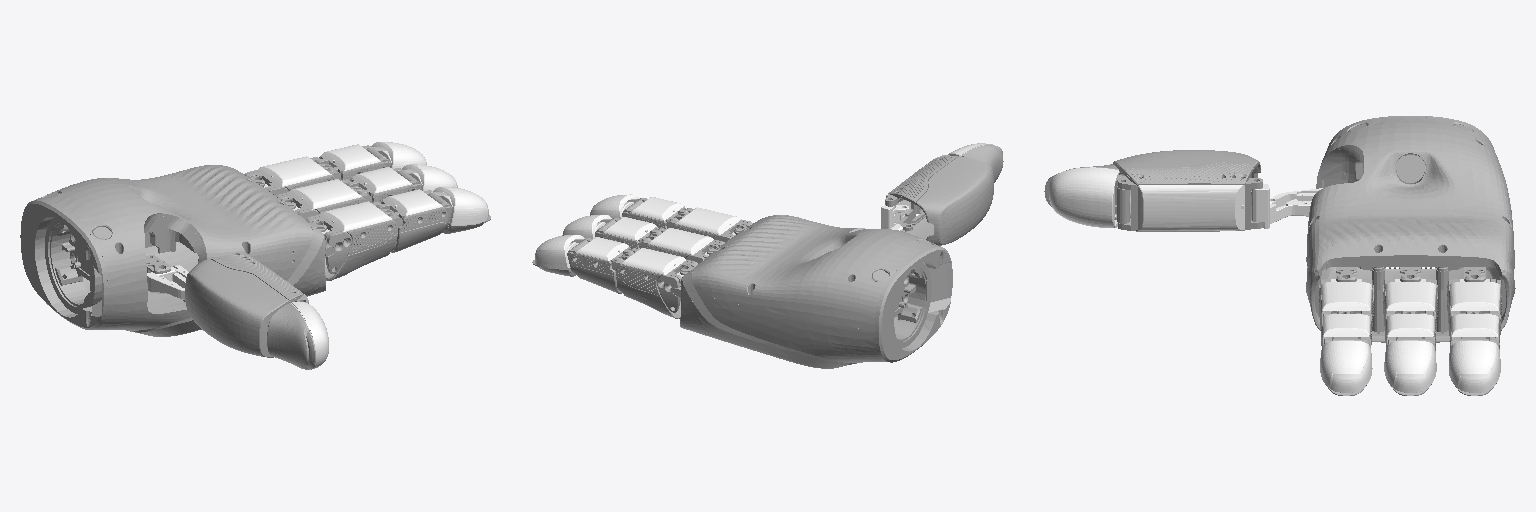
--- Facts derived from the render (not from the file) ---
Views: 3 orthographic renders of the robot side by side, from view 1: azimuth 30°, elevation 25°; view 2: azimuth 150°, elevation 25°; view 3: azimuth 270°, elevation 25°.
Model dexh13_right with 28 links and 27 joints (16 revolute, 11 fixed), rooted at right_palm_link, posed all joints at 0.
Links seen in each view (by area): view 1: right_palm_link, right_thumb_link_2, right_index_link_1, right_thumb_link_3, right_index_link_2, right_index_tactile_link_2, right_middle_tactile_link_0, right_index_tactile_link_0, right_ring_tactile_link_0, right_thumb_tactile_link_1, right_middle_tactile_link_1, right_ring_tactile_link_1 (+6 smaller); view 2: right_palm_link, right_thumb_link_2, right_ring_link_1, right_ring_link_2, right_ring_tactile_link_2, right_index_tactile_link_0, right_middle_tactile_link_0, right_ring_tactile_link_0, right_index_tactile_link_1, right_ring_tactile_link_1, right_middle_tactile_link_1, right_index_tactile_link_2 (+4 smaller); view 3: right_palm_link, right_thumb_link_2, right_thumb_tactile_link_0, right_thumb_tactile_link_1, right_middle_tactile_link_2, right_index_tactile_link_2, right_ring_tactile_link_2, right_thumb_link_1, right_middle_tactile_link_0, right_index_tactile_link_0, right_ring_tactile_link_0, right_ring_tactile_link_1 (+3 smaller).
Link boxes in pixels (x1=…): right_palm_link: x1=20, y1=165, x2=326, y2=336; right_thumb_link_2: x1=185, y1=252, x2=308, y2=357; right_index_link_1: x1=306, y1=202, x2=402, y2=280; right_thumb_link_3: x1=267, y1=303, x2=315, y2=369; right_index_link_2: x1=377, y1=190, x2=452, y2=252; right_index_tactile_link_2: x1=433, y1=187, x2=488, y2=224; right_middle_tactile_link_0: x1=288, y1=179, x2=361, y2=211; right_index_tactile_link_0: x1=319, y1=201, x2=392, y2=233; right_ring_tactile_link_0: x1=258, y1=156, x2=331, y2=188; right_thumb_tactile_link_1: x1=291, y1=302, x2=328, y2=369; right_middle_tactile_link_1: x1=353, y1=167, x2=412, y2=193; right_ring_tactile_link_1: x1=322, y1=144, x2=380, y2=170; right_palm_link: x1=680, y1=215, x2=952, y2=368; right_thumb_link_2: x1=885, y1=155, x2=993, y2=245; right_ring_link_1: x1=612, y1=248, x2=697, y2=318; right_ring_link_2: x1=567, y1=238, x2=633, y2=293; right_ring_tactile_link_2: x1=535, y1=235, x2=584, y2=268; right_index_tactile_link_0: x1=676, y1=207, x2=741, y2=236; right_middle_tactile_link_0: x1=648, y1=228, x2=713, y2=255; right_ring_tactile_link_0: x1=621, y1=248, x2=685, y2=274; right_index_tactile_link_1: x1=631, y1=197, x2=683, y2=220; right_ring_tactile_link_1: x1=576, y1=237, x2=628, y2=260; right_middle_tactile_link_1: x1=603, y1=217, x2=656, y2=240; right_index_tactile_link_2: x1=590, y1=194, x2=639, y2=218; right_palm_link: x1=1306, y1=116, x2=1515, y2=342; right_thumb_link_2: x1=1113, y1=150, x2=1262, y2=231; right_thumb_tactile_link_0: x1=1138, y1=185, x2=1244, y2=230; right_thumb_tactile_link_1: x1=1049, y1=167, x2=1119, y2=227; right_middle_tactile_link_2: x1=1384, y1=340, x2=1436, y2=392; right_index_tactile_link_2: x1=1320, y1=340, x2=1372, y2=392; right_ring_tactile_link_2: x1=1449, y1=340, x2=1500, y2=392; right_thumb_link_1: x1=1251, y1=184, x2=1322, y2=228; right_middle_tactile_link_0: x1=1385, y1=282, x2=1435, y2=310; right_index_tactile_link_0: x1=1321, y1=282, x2=1371, y2=310; right_ring_tactile_link_0: x1=1449, y1=282, x2=1499, y2=310; right_ring_tactile_link_1: x1=1451, y1=314, x2=1498, y2=338.
Size in the robot's own frame: 0.2351 by 0.231 by 0.0734 metres.
Meshes: 28 distinct files referenced, 28 mesh visuals loaded (28 binary STL).

The robot description file, URDF, robot "dexh13_right":
<?xml version="1.0" encoding="utf-8"?>
<!-- This URDF was automatically created by SolidWorks to URDF Exporter! Originally created by Stephen Brawner ([email redacted]) 
     Commit Version: 1.6.0-4-g7f85cfe  Build Version: 1.6.7995.38578
     For more information, please see http://wiki.ros.org/sw_urdf_exporter -->
<robot
  name="dexh13_right">
  <link
    name="right_palm_link">
    <inertial>
      <origin
        xyz="0.0619400889798107 0.000633777554448545 -0.00922401737694556"
        rpy="0 0 0" />
      <mass
        value="0.114799444276486" />
      <inertia
        ixx="0.000115656477451761"
        ixy="3.24423761159877E-06"
        ixz="4.40448289255065E-06"
        iyy="0.000144675400179227"
        iyz="-1.26436937122323E-06"
        izz="0.000233485399410628" />
    </inertial>
    <visual>
      <origin
        xyz="0 0 0"
        rpy="0 0 0" />
      <geometry>
        <mesh
          filename="../meshes/right_palm_link.STL" />
      </geometry>
      <material
        name="">
        <color
          rgba="0.752941176470588 0.752941176470588 0.752941176470588 1" />
      </material>
    </visual>
    <collision>
      <origin
        xyz="0 0 0"
        rpy="0 0 0" />
      <geometry>
        <mesh
          filename="../meshes/right_palm_link.STL" />
      </geometry>
    </collision>
  </link>
  <link
    name="right_index_link_0">
    <inertial>
      <origin
        xyz="-0.000308197926172649 8.39026403909315E-10 -8.96268664007938E-07"
        rpy="0 0 0" />
      <mass
        value="0.000177081875037463" />
      <inertia
        ixx="3.4763707795701E-09"
        ixy="1.07698689339673E-16"
        ixz="-4.6319757296773E-13"
        iyy="6.72350326843279E-10"
        iyz="-4.88407181627268E-17"
        izz="3.89708717262623E-09" />
    </inertial>
    <visual>
      <origin
        xyz="0 0 0"
        rpy="0 0 0" />
      <geometry>
        <mesh
          filename="../meshes/right_index_link_0.STL" />
      </geometry>
      <material
        name="">
        <color
          rgba="1 1 1 1" />
      </material>
    </visual>
    <collision>
      <origin
        xyz="0 0 0"
        rpy="0 0 0" />
      <geometry>
        <mesh
          filename="../meshes/right_index_link_0.STL" />
      </geometry>
    </collision>
  </link>
  <joint
    name="right_index_joint_0"
    type="revolute">
    <origin
      xyz="0.13528 -0.0315 0.0017501"
      rpy="3.1416 0 3.1416" />
    <parent
      link="right_palm_link" />
    <child
      link="right_index_link_0" />
    <axis
      xyz="0 0 1" />
    <limit
      lower="-0.35"
      upper="0.35"
      effort="0"
      velocity="0" />
  </joint>
  <link
    name="right_index_link_1">
    <inertial>
      <origin
        xyz="0.019458668769933 -0.0089652904132522 -0.000103629286555107"
        rpy="0 0 0" />
      <mass
        value="0.00781862122127028" />
      <inertia
        ixx="7.54005717682309E-07"
        ixy="-1.78804290522348E-07"
        ixz="-3.16795998523565E-08"
        iyy="1.81037946922475E-06"
        iyz="-3.54790575910829E-09"
        izz="1.58839732926949E-06" />
    </inertial>
    <visual>
      <origin
        xyz="0 0 0"
        rpy="0 0 0" />
      <geometry>
        <mesh
          filename="../meshes/right_index_link_1.STL" />
      </geometry>
      <material
        name="">
        <color
          rgba="0.752941176470588 0.752941176470588 0.752941176470588 1" />
      </material>
    </visual>
    <collision>
      <origin
        xyz="0 0 0"
        rpy="0 0 0" />
      <geometry>
        <mesh
          filename="../meshes/right_index_link_1.STL" />
      </geometry>
    </collision>
  </link>
  <joint
    name="right_index_joint_1"
    type="revolute">
    <origin
      xyz="0 0 0"
      rpy="-1.5708 0 3.1416" />
    <parent
      link="right_index_link_0" />
    <child
      link="right_index_link_1" />
    <axis
      xyz="0 0 1" />
    <limit
      lower="0"
      upper="1.57"
      effort="0"
      velocity="0" />
  </joint>
  <link
    name="right_index_link_2">
    <inertial>
      <origin
        xyz="0.0137651413880091 -0.00728319097323554 -0.000338376807412472"
        rpy="0 0 0" />
      <mass
        value="0.00444702440302546" />
      <inertia
        ixx="3.57402969229919E-07"
        ixy="-2.93570876643459E-08"
        ixz="-7.17605723324856E-09"
        iyy="5.90573396738625E-07"
        iyz="-1.80789872592111E-09"
        izz="4.33465005909825E-07" />
    </inertial>
    <visual>
      <origin
        xyz="0 0 0"
        rpy="0 0 0" />
      <geometry>
        <mesh
          filename="../meshes/right_index_link_2.STL" />
      </geometry>
      <material
        name="">
        <color
          rgba="0.752941176470588 0.752941176470588 0.752941176470588 1" />
      </material>
    </visual>
    <collision>
      <origin
        xyz="0 0 0"
        rpy="0 0 0" />
      <geometry>
        <mesh
          filename="../meshes/right_index_link_2.STL" />
      </geometry>
    </collision>
  </link>
  <joint
    name="right_index_joint_2"
    type="revolute">
    <origin
      xyz="0.039999 1.0069E-05 0"
      rpy="0 0 0" />
    <parent
      link="right_index_link_1" />
    <child
      link="right_index_link_2" />
    <axis
      xyz="0 0 1" />
    <limit
      lower="0"
      upper="1.57"
      effort="0"
      velocity="0" />
  </joint>
  <link
    name="right_index_link_3">
    <inertial>
      <origin
        xyz="0.00645566880354587 -0.0108151464713902 3.11426869692433E-06"
        rpy="0 0 0" />
      <mass
        value="0.00370163834726037" />
      <inertia
        ixx="1.63153786893549E-07"
        ixy="6.2613785984167E-08"
        ixz="-2.8930751066186E-10"
        iyy="3.8481939975164E-07"
        iyz="8.54539635528873E-10"
        izz="3.08433547663749E-07" />
    </inertial>
    <visual>
      <origin
        xyz="0 0 0"
        rpy="0 0 0" />
      <geometry>
        <mesh
          filename="../meshes/right_index_link_3.STL" />
      </geometry>
      <material
        name="">
        <color
          rgba="0.752941176470588 0.752941176470588 0.752941176470588 1" />
      </material>
    </visual>
    <collision>
      <origin
        xyz="0 0 0"
        rpy="0 0 0" />
      <geometry>
        <mesh
          filename="../meshes/right_index_link_3.STL" />
      </geometry>
    </collision>
  </link>
  <joint
    name="right_index_joint_3"
    type="revolute">
    <origin
      xyz="0.030001 -1.0072E-05 0"
      rpy="0 0 0" />
    <parent
      link="right_index_link_2" />
    <child
      link="right_index_link_3" />
    <axis
      xyz="0 0 1" />
    <limit
      lower="0"
      upper="1.57"
      effort="0"
      velocity="0" />
  </joint>
  <link
    name="right_index_tactile_link_2">
    <inertial>
      <origin
        xyz="0.000109844961296346 0.0099416982219066 0.00443460180255373"
        rpy="0 0 0" />
      <mass
        value="0.00413497205037458" />
      <inertia
        ixx="2.22394583675105E-07"
        ixy="9.01967562427741E-10"
        ixz="8.94924483975294E-10"
        iyy="2.23755941796333E-07"
        iyz="2.47116794584231E-08"
        izz="3.54572754525545E-07" />
    </inertial>
    <visual>
      <origin
        xyz="0 0 0"
        rpy="0 0 0" />
      <geometry>
        <mesh
          filename="../meshes/right_index_tactile_link_2.STL" />
      </geometry>
      <material
        name="">
        <color
          rgba="1 1 1 1" />
      </material>
    </visual>
    <collision>
      <origin
        xyz="0 0 0"
        rpy="0 0 0" />
      <geometry>
        <mesh
          filename="../meshes/right_index_tactile_link_2.STL" />
      </geometry>
    </collision>
  </link>
  <joint
    name="right_index_tactile_joint_2"
    type="fixed">
    <origin
      xyz="0.0029533 -0.0067786 0"
      rpy="1.3775 -1.5708 3.1413" />
    <parent
      link="right_index_link_3" />
    <child
      link="right_index_tactile_link_2" />
    <axis
      xyz="0 0 0" />
  </joint>
  <link
    name="right_index_tactile_link_1">
    <inertial>
      <origin
        xyz="3.0446001686224E-05 0.0109528249877928 0.000700664923569766"
        rpy="0 0 0" />
      <mass
        value="0.00146306414297665" />
      <inertia
        ixx="5.85353582900128E-08"
        ixy="2.96653312598885E-11"
        ixz="-5.95294227147362E-13"
        iyy="6.03565233436984E-08"
        iyz="-1.48257364967186E-11"
        izz="1.15994427577965E-07" />
    </inertial>
    <visual>
      <origin
        xyz="0 0 0"
        rpy="0 0 0" />
      <geometry>
        <mesh
          filename="../meshes/right_index_tactile_link_1.STL" />
      </geometry>
      <material
        name="">
        <color
          rgba="1 1 1 1" />
      </material>
    </visual>
    <collision>
      <origin
        xyz="0 0 0"
        rpy="0 0 0" />
      <geometry>
        <mesh
          filename="../meshes/right_index_tactile_link_1.STL" />
      </geometry>
    </collision>
  </link>
  <joint
    name="right_index_tactile_joint_1"
    type="fixed">
    <origin
      xyz="0.0041708 0.0024988 0"
      rpy="1.5708 -1.5708 3.1413" />
    <parent
      link="right_index_link_2" />
    <child
      link="right_index_tactile_link_1" />
    <axis
      xyz="0 0 0" />
  </joint>
  <link
    name="right_index_tactile_link_0">
    <inertial>
      <origin
        xyz="-5.64660317428634E-06 0.014075020640723 0.00086164148054127"
        rpy="0 0 0" />
      <mass
        value="0.00202349083525809" />
      <inertia
        ixx="1.39860030184411E-07"
        ixy="1.33827478855186E-11"
        ixz="-1.25794008028026E-12"
        iyy="9.15846254269304E-08"
        iyz="-2.40330494074063E-10"
        izz="2.2769300433268E-07" />
    </inertial>
    <visual>
      <origin
        xyz="0 0 0"
        rpy="0 0 0" />
      <geometry>
        <mesh
          filename="../meshes/right_index_tactile_link_0.STL" />
      </geometry>
      <material
        name="">
        <color
          rgba="1 1 1 1" />
      </material>
    </visual>
    <collision>
      <origin
        xyz="0 0 0"
        rpy="0 0 0" />
      <geometry>
        <mesh
          filename="../meshes/right_index_tactile_link_0.STL" />
      </geometry>
    </collision>
  </link>
  <joint
    name="right_index_tactile_joint_0"
    type="fixed">
    <origin
      xyz="0.00726310654650064 0.00249999999992634 0"
      rpy="-1.06831157850435 -1.57079631189374 -0.502484829452999" />
    <parent
      link="right_index_link_1" />
    <child
      link="right_index_tactile_link_0" />
    <axis
      xyz="0 0 0" />
  </joint>
  <link
    name="right_middle_link_0">
    <inertial>
      <origin
        xyz="-0.000308197926172538 8.39026403909315E-10 -8.96268663952426E-07"
        rpy="0 0 0" />
      <mass
        value="0.000177081875037461" />
      <inertia
        ixx="3.47637077957008E-09"
        ixy="1.07698687177505E-16"
        ixz="-4.63197572968217E-13"
        iyy="6.72350326843274E-10"
        iyz="-4.88407181812721E-17"
        izz="3.8970871726262E-09" />
    </inertial>
    <visual>
      <origin
        xyz="0 0 0"
        rpy="0 0 0" />
      <geometry>
        <mesh
          filename="../meshes/right_middle_link_0.STL" />
      </geometry>
      <material
        name="">
        <color
          rgba="1 1 1 1" />
      </material>
    </visual>
    <collision>
      <origin
        xyz="0 0 0"
        rpy="0 0 0" />
      <geometry>
        <mesh
          filename="../meshes/right_middle_link_0.STL" />
      </geometry>
    </collision>
  </link>
  <joint
    name="right_middle_joint_0"
    type="revolute">
    <origin
      xyz="0.13528 0 0.0017501"
      rpy="3.1416 0 3.1416" />
    <parent
      link="right_palm_link" />
    <child
      link="right_middle_link_0" />
    <axis
      xyz="0 0 1" />
    <limit
      lower="-0.35"
      upper="0.35"
      effort="0"
      velocity="0" />
  </joint>
  <link
    name="right_middle_link_1">
    <inertial>
      <origin
        xyz="0.0194586697953215 -0.0089652904495495 -0.000103629595511856"
        rpy="0 0 0" />
      <mass
        value="0.0078186203560971" />
      <inertia
        ixx="7.54005690810802E-07"
        ixy="-1.78804386113988E-07"
        ixz="-3.16796063838823E-08"
        iyy="1.81038006347822E-06"
        iyz="-3.54791904709937E-09"
        izz="1.58839790889073E-06" />
    </inertial>
    <visual>
      <origin
        xyz="0 0 0"
        rpy="0 0 0" />
      <geometry>
        <mesh
          filename="../meshes/right_middle_link_1.STL" />
      </geometry>
      <material
        name="">
        <color
          rgba="0.752941176470588 0.752941176470588 0.752941176470588 1" />
      </material>
    </visual>
    <collision>
      <origin
        xyz="0 0 0"
        rpy="0 0 0" />
      <geometry>
        <mesh
          filename="../meshes/right_middle_link_1.STL" />
      </geometry>
    </collision>
  </link>
  <joint
    name="right_middle_joint_1"
    type="revolute">
    <origin
      xyz="0 0 0"
      rpy="-1.5708 0 3.1416" />
    <parent
      link="right_middle_link_0" />
    <child
      link="right_middle_link_1" />
    <axis
      xyz="0 0 1" />
    <limit
      lower="0"
      upper="1.57"
      effort="0"
      velocity="0" />
  </joint>
  <link
    name="right_middle_link_2">
    <inertial>
      <origin
        xyz="0.0137651544503949 -0.00728316628506753 -0.000338376809692148"
        rpy="0 0 0" />
      <mass
        value="0.00444702440314665" />
      <inertia
        ixx="3.57403074693285E-07"
        ixy="-2.93575060166498E-08"
        ixz="-7.1760539456482E-09"
        iyy="5.90573291525459E-07"
        iyz="-1.8079114870554E-09"
        izz="4.33465006058664E-07" />
    </inertial>
    <visual>
      <origin
        xyz="0 0 0"
        rpy="0 0 0" />
      <geometry>
        <mesh
          filename="../meshes/right_middle_link_2.STL" />
      </geometry>
      <material
        name="">
        <color
          rgba="0.752941176470588 0.752941176470588 0.752941176470588 1" />
      </material>
    </visual>
    <collision>
      <origin
        xyz="0 0 0"
        rpy="0 0 0" />
      <geometry>
        <mesh
          filename="../meshes/right_middle_link_2.STL" />
      </geometry>
    </collision>
  </link>
  <joint
    name="right_middle_joint_2"
    type="revolute">
    <origin
      xyz="0.039999 1.0076E-05 0"
      rpy="0 0 0" />
    <parent
      link="right_middle_link_1" />
    <child
      link="right_middle_link_2" />
    <axis
      xyz="0 0 1" />
    <limit
      lower="0"
      upper="1.57"
      effort="0"
      velocity="0" />
  </joint>
  <link
    name="right_middle_link_3">
    <inertial>
      <origin
        xyz="0.00645673868277941 -0.0108162941258625 3.11419321230577E-06"
        rpy="0 0 0" />
      <mass
        value="0.00370163830505483" />
      <inertia
        ixx="1.63153823727457E-07"
        ixy="6.26138530695939E-08"
        ixz="-2.89307630278547E-10"
        iyy="3.84819354077536E-07"
        iyz="8.54540061916667E-10"
        izz="3.08433542470026E-07" />
    </inertial>
    <visual>
      <origin
        xyz="0 0 0"
        rpy="0 0 0" />
      <geometry>
        <mesh
          filename="../meshes/right_middle_link_3.STL" />
      </geometry>
      <material
        name="">
        <color
          rgba="0.752941176470588 0.752941176470588 0.752941176470588 1" />
      </material>
    </visual>
    <collision>
      <origin
        xyz="0 0 0"
        rpy="0 0 0" />
      <geometry>
        <mesh
          filename="../meshes/right_middle_link_3.STL" />
      </geometry>
    </collision>
  </link>
  <joint
    name="right_middle_joint_3"
    type="revolute">
    <origin
      xyz="0.03 0 0"
      rpy="0 0 0" />
    <parent
      link="right_middle_link_2" />
    <child
      link="right_middle_link_3" />
    <axis
      xyz="0 0 1" />
    <limit
      lower="0"
      upper="1.57"
      effort="0"
      velocity="0" />
  </joint>
  <link
    name="right_middle_tactile_link_2">
    <inertial>
      <origin
        xyz="0.000109842573988772 0.00994170332209432 0.00443460260777179"
        rpy="0 0 0" />
      <mass
        value="0.00413497489054648" />
      <inertia
        ixx="2.22394698997085E-07"
        ixy="9.02039026654202E-10"
        ixz="8.94930532865464E-10"
        iyy="2.2375605501598E-07"
        iyz="2.47116757376616E-08"
        izz="3.5457298094318E-07" />
    </inertial>
    <visual>
      <origin
        xyz="0 0 0"
        rpy="0 0 0" />
      <geometry>
        <mesh
          filename="../meshes/right_middle_tactile_link_2.STL" />
      </geometry>
      <material
        name="">
        <color
          rgba="1 1 1 1" />
      </material>
    </visual>
    <collision>
      <origin
        xyz="0 0 0"
        rpy="0 0 0" />
      <geometry>
        <mesh
          filename="../meshes/right_middle_tactile_link_2.STL" />
      </geometry>
    </collision>
  </link>
  <joint
    name="right_middle_tactile_joint_2"
    type="fixed">
    <origin
      xyz="0.00295438540336046 -0.00677973560068104 0"
      rpy="1.40509637836892 -1.57079631189374 3.11401126729545" />
    <parent
      link="right_middle_link_3" />
    <child
      link="right_middle_tactile_link_2" />
    <axis
      xyz="0 0 0" />
  </joint>
  <link
    name="right_middle_tactile_link_1">
    <inertial>
      <origin
        xyz="3.04460016359032E-05 0.0109528249877507 0.000700664923541594"
        rpy="0 0 0" />
      <mass
        value="0.00146306414309843" />
      <inertia
        ixx="5.85353582946561E-08"
        ixy="2.96653346391471E-11"
        ixz="-5.95293426395652E-13"
        iyy="6.03565233443411E-08"
        iyz="-1.48257363077442E-11"
        izz="1.1599442758332E-07" />
    </inertial>
    <visual>
      <origin
        xyz="0 0 0"
        rpy="0 0 0" />
      <geometry>
        <mesh
          filename="../meshes/right_middle_tactile_link_1.STL" />
      </geometry>
      <material
        name="">
        <color
          rgba="1 1 1 1" />
      </material>
    </visual>
    <collision>
      <origin
        xyz="0 0 0"
        rpy="0 0 0" />
      <geometry>
        <mesh
          filename="../meshes/right_middle_tactile_link_1.STL" />
      </geometry>
    </collision>
  </link>
  <joint
    name="right_middle_tactile_joint_1"
    type="fixed">
    <origin
      xyz="0.0041708 0.0024988 0"
      rpy="1.5705 -1.5708 3.1413" />
    <parent
      link="right_middle_link_2" />
    <child
      link="right_middle_tactile_link_1" />
    <axis
      xyz="0 0 0" />
  </joint>
  <link
    name="right_middle_tactile_link_0">
    <inertial>
      <origin
        xyz="-5.64660317384225E-06 0.014075020640724 0.000861641480541325"
        rpy="0 0 0" />
      <mass
        value="0.00202349083525826" />
      <inertia
        ixx="1.39860030184426E-07"
        ixy="1.33827478692239E-11"
        ixz="-1.25794008083659E-12"
        iyy="9.15846254269411E-08"
        iyz="-2.40330494073692E-10"
        izz="2.27693004332706E-07" />
    </inertial>
    <visual>
      <origin
        xyz="0 0 0"
        rpy="0 0 0" />
      <geometry>
        <mesh
          filename="../meshes/right_middle_tactile_link_0.STL" />
      </geometry>
      <material
        name="">
        <color
          rgba="1 1 1 1" />
      </material>
    </visual>
    <collision>
      <origin
        xyz="0 0 0"
        rpy="0 0 0" />
      <geometry>
        <mesh
          filename="../meshes/right_middle_tactile_link_0.STL" />
      </geometry>
    </collision>
  </link>
  <joint
    name="right_middle_tactile_joint_0"
    type="fixed">
    <origin
      xyz="0.00726310654650086 0.00249999999992631 0"
      rpy="-0.84788407643303 -1.57079631189374 -0.722912356845784" />
    <parent
      link="right_middle_link_1" />
    <child
      link="right_middle_tactile_link_0" />
    <axis
      xyz="0 0 0" />
  </joint>
  <link
    name="right_ring_link_0">
    <inertial>
      <origin
        xyz="-0.000308197926172649 8.39026348398164E-10 -8.96268664063449E-07"
        rpy="0 0 0" />
      <mass
        value="0.000177081875037463" />
      <inertia
        ixx="3.47637077957003E-09"
        ixy="1.07698694297103E-16"
        ixz="-4.63197572972229E-13"
        iyy="6.72350326843281E-10"
        iyz="-4.88407174630323E-17"
        izz="3.89708717262616E-09" />
    </inertial>
    <visual>
      <origin
        xyz="0 0 0"
        rpy="0 0 0" />
      <geometry>
        <mesh
          filename="../meshes/right_ring_link_0.STL" />
      </geometry>
      <material
        name="">
        <color
          rgba="1 1 1 1" />
      </material>
    </visual>
    <collision>
      <origin
        xyz="0 0 0"
        rpy="0 0 0" />
      <geometry>
        <mesh
          filename="../meshes/right_ring_link_0.STL" />
      </geometry>
    </collision>
  </link>
  <joint
    name="right_ring_joint_0"
    type="revolute">
    <origin
      xyz="0.13528 0.0315 0.0017501"
      rpy="3.1416 0 3.1416" />
    <parent
      link="right_palm_link" />
    <child
      link="right_ring_link_0" />
    <axis
      xyz="0 0 1" />
    <limit
      lower="-0.35"
      upper="0.35"
      effort="0"
      velocity="0" />
  </joint>
  <link
    name="right_ring_link_1">
    <inertial>
      <origin
        xyz="0.0194586698516268 -0.0089652904897943 -0.000103629565035568"
        rpy="0 0 0" />
      <mass
        value="0.00781862033405023" />
      <inertia
        ixx="7.54005682298347E-07"
        ixy="-1.7880439191953E-07"
        ixz="-3.16796024704617E-08"
        iyy="1.810380060335E-06"
        iyz="-3.54792278265799E-09"
        izz="1.58839790177761E-06" />
    </inertial>
    <visual>
      <origin
        xyz="0 0 0"
        rpy="0 0 0" />
      <geometry>
        <mesh
          filename="../meshes/right_ring_link_1.STL" />
      </geometry>
      <material
        name="">
        <color
          rgba="0.752941176470588 0.752941176470588 0.752941176470588 1" />
      </material>
    </visual>
    <collision>
      <origin
        xyz="0 0 0"
        rpy="0 0 0" />
      <geometry>
        <mesh
          filename="../meshes/right_ring_link_1.STL" />
      </geometry>
    </collision>
  </link>
  <joint
    name="right_ring_joint_1"
    type="revolute">
    <origin
      xyz="0 0 0"
      rpy="-1.5708 0 3.1416" />
    <parent
      link="right_ring_link_0" />
    <child
      link="right_ring_link_1" />
    <axis
      xyz="0 0 1" />
    <limit
      lower="0"
      upper="1.57"
      effort="0"
      velocity="0" />
  </joint>
  <link
    name="right_ring_link_2">
    <inertial>
      <origin
        xyz="0.0137662762611586 -0.00728104567054219 -0.00033837691764993"
        rpy="0 0 0" />
      <mass
        value="0.00444702438470758" />
      <inertia
        ixx="3.57412129752246E-07"
        ixy="-2.93934265208276E-08"
        ixz="-7.1757755680097E-09"
        iyy="5.90564241382686E-07"
        iyz="-1.80901660750695E-09"
        izz="4.3346500687057E-07" />
    </inertial>
    <visual>
      <origin
        xyz="0 0 0"
        rpy="0 0 0" />
      <geometry>
        <mesh
          filename="../meshes/right_ring_link_2.STL" />
      </geometry>
      <material
        name="">
        <color
          rgba="0.752941176470588 0.752941176470588 0.752941176470588 1" />
      </material>
    </visual>
    <collision>
      <origin
        xyz="0 0 0"
        rpy="0 0 0" />
      <geometry>
        <mesh
          filename="../meshes/right_ring_link_2.STL" />
      </geometry>
    </collision>
  </link>
  <joint
    name="right_ring_joint_2"
    type="revolute">
    <origin
      xyz="0.039998 1.0704E-05 0"
      rpy="0 0 0" />
    <parent
      link="right_ring_link_1" />
    <child
      link="right_ring_link_2" />
    <axis
      xyz="0 0 1" />
    <limit
      lower="0"
      upper="1.57"
      effort="0"
      velocity="0" />
  </joint>
  <link
    name="right_ring_link_3">
    <inertial>
      <origin
        xyz="0.00645798847232748 -0.0108212455508091 3.11419380774614E-06"
        rpy="0 0 0" />
      <mass
        value="0.00370163832829097" />
      <inertia
        ixx="1.6315184042749E-07"
        ixy="6.26103452012076E-08"
        ixz="-2.89327673265826E-10"
        iyy="3.84821348337798E-07"
        iyz="8.5453761667753E-10"
        izz="3.08433554729858E-07" />
    </inertial>
    <visual>
      <origin
        xyz="0 0 0"
        rpy="0 0 0" />
      <geometry>
        <mesh
          filename="../meshes/right_ring_link_3.STL" />
      </geometry>
      <material
        name="">
        <color
          rgba="0.752941176470588 0.752941176470588 0.752941176470588 1" />
      </material>
    </visual>
    <collision>
      <origin
        xyz="0 0 0"
        rpy="0 0 0" />
      <geometry>
        <mesh
          filename="../meshes/right_ring_link_3.STL" />
      </geometry>
    </collision>
  </link>
  <joint
    name="right_ring_joint_3"
    type="revolute">
    <origin
      xyz="0.03 0 0"
      rpy="0 0 0" />
    <parent
      link="right_ring_link_2" />
    <child
      link="right_ring_link_3" />
    <axis
      xyz="0 0 1" />
    <limit
      lower="0"
      upper="1.57"
      effort="0"
      velocity="0" />
  </joint>
  <link
    name="right_ring_tactile_link_2">
    <inertial>
      <origin
        xyz="0.000109842977396524 0.00994169743216822 0.00443460187701622"
        rpy="0 0 0" />
      <mass
        value="0.00413497345425032" />
      <inertia
        ixx="2.22394602768751E-07"
        ixy="9.01956207593262E-10"
        ixz="8.94940050226042E-10"
        iyy="2.23756000827499E-07"
        iyz="2.4711684216646E-08"
        izz="3.54572822775861E-07" />
    </inertial>
    <visual>
      <origin
        xyz="0 0 0"
        rpy="0 0 0" />
      <geometry>
        <mesh
          filename="../meshes/right_ring_tactile_link_2.STL" />
      </geometry>
      <material
        name="">
        <color
          rgba="1 1 1 1" />
      </material>
    </visual>
    <collision>
      <origin
        xyz="0 0 0"
        rpy="0 0 0" />
      <geometry>
        <mesh
          filename="../meshes/right_ring_tactile_link_2.STL" />
      </geometry>
    </collision>
  </link>
  <joint
    name="right_ring_tactile_joint_2"
    type="fixed">
    <origin
      xyz="0.00295557105770472 -0.00678474247944069 0"
      rpy="1.4053112662538 -1.57079630572147 3.1138122196849" />
    <parent
      link="right_ring_link_3" />
    <child
      link="right_ring_tactile_link_2" />
    <axis
      xyz="0 0 0" />
  </joint>
  <link
    name="right_ring_tactile_link_1">
    <inertial>
      <origin
        xyz="3.04459971963988E-05 0.0109528249840939 0.000700664921143068"
        rpy="0 0 0" />
      <mass
        value="0.00146306415357509" />
      <inertia
        ixx="5.85353586942361E-08"
        ixy="2.96656242485767E-11"
        ixz="-5.952245549025E-13"
        iyy="6.03565234003192E-08"
        iyz="-1.48257199580369E-11"
        izz="1.1599442804481E-07" />
    </inertial>
    <visual>
      <origin
        xyz="0 0 0"
        rpy="0 0 0" />
      <geometry>
        <mesh
          filename="../meshes/right_ring_tactile_link_1.STL" />
      </geometry>
      <material
        name="">
        <color
          rgba="1 1 1 1" />
      </material>
    </visual>
    <collision>
      <origin
        xyz="0 0 0"
        rpy="0 0 0" />
      <geometry>
        <mesh
          filename="../meshes/right_ring_tactile_link_1.STL" />
      </geometry>
    </collision>
  </link>
  <joint
    name="right_ring_tactile_joint_1"
    type="fixed">
    <origin
      xyz="0.0041703799528815 0.00249940030013757 0"
      rpy="1.57079299275979 -1.57079631189374 3.14145218161306" />
    <parent
      link="right_ring_link_2" />
    <child
      link="right_ring_tactile_link_1" />
    <axis
      xyz="0 0 0" />
  </joint>
  <link
    name="right_ring_tactile_link_0">
    <inertial>
      <origin
        xyz="-5.64660317459165E-06 0.0140750206407224 0.000861641480541214"
        rpy="0 0 0" />
      <mass
        value="0.00202349083525798" />
      <inertia
        ixx="1.39860030184399E-07"
        ixy="1.33827478931932E-11"
        ixz="-1.25794008015279E-12"
        iyy="9.15846254269231E-08"
        iyz="-2.40330494073465E-10"
        izz="2.2769300433266E-07" />
    </inertial>
    <visual>
      <origin
        xyz="0 0 0"
        rpy="0 0 0" />
      <geometry>
        <mesh
          filename="../meshes/right_ring_tactile_link_0.STL" />
      </geometry>
      <material
        name="">
        <color
          rgba="1 1 1 1" />
      </material>
    </visual>
    <collision>
      <origin
        xyz="0 0 0"
        rpy="0 0 0" />
      <geometry>
        <mesh
          filename="../meshes/right_ring_tactile_link_0.STL" />
      </geometry>
    </collision>
  </link>
  <joint
    name="right_ring_tactile_joint_0"
    type="fixed">
    <origin
      xyz="0.00726310654642626 0.00249999999992626 0"
      rpy="-0.5180483006148 -1.57079631189374 -1.05274816235248" />
    <parent
      link="right_ring_link_1" />
    <child
      link="right_ring_tactile_link_0" />
    <axis
      xyz="0 0 0" />
  </joint>
  <link
    name="right_thumb_link_0">
    <inertial>
      <origin
        xyz="-4.08049232314411E-06 -0.000308170880180925 -8.96268982503168E-07"
        rpy="0 0 0" />
      <mass
        value="0.00017708187561708" />
      <inertia
        ixx="6.72841647369544E-10"
        ixy="3.71138186155915E-11"
        ixz="-6.08535525734986E-15"
        iyy="3.47587946440159E-09"
        iyz="-4.6315768409107E-13"
        izz="3.89708717844451E-09" />
    </inertial>
    <visual>
      <origin
        xyz="0 0 0"
        rpy="0 0 0" />
      <geometry>
        <mesh
          filename="../meshes/right_thumb_link_0.STL" />
      </geometry>
      <material
        name="">
        <color
          rgba="1 1 1 1" />
      </material>
    </visual>
    <collision>
      <origin
        xyz="0 0 0"
        rpy="0 0 0" />
      <geometry>
        <mesh
          filename="../meshes/right_thumb_link_0.STL" />
      </geometry>
    </collision>
  </link>
  <joint
    name="right_thumb_joint_0"
    type="revolute">
    <origin
      xyz="0.039278 -0.0365 0.0017501"
      rpy="3.1416 0 3.1416" />
    <parent
      link="right_palm_link" />
    <child
      link="right_thumb_link_0" />
    <axis
      xyz="0 0 1" />
    <limit
      lower="-0.35"
      upper="0.35"
      effort="0"
      velocity="0" />
  </joint>
  <link
    name="right_thumb_link_1">
    <inertial>
      <origin
        xyz="0.0207891259490899 0.000590090870854043 -0.00764771233284545"
        rpy="0 0 0" />
      <mass
        value="0.00460890557468254" />
      <inertia
        ixx="6.35405194807683E-07"
        ixy="-2.57180843538623E-07"
        ixz="5.07818824627121E-07"
        iyy="1.49087290646374E-06"
        iyz="1.63529163822397E-07"
        izz="1.14943022816607E-06" />
    </inertial>
    <visual>
      <origin
        xyz="0 0 0"
        rpy="0 0 0" />
      <geometry>
        <mesh
          filename="../meshes/right_thumb_link_1.STL" />
      </geometry>
      <material
        name="">
        <color
          rgba="1 1 1 1" />
      </material>
    </visual>
    <collision>
      <origin
        xyz="0 0 0"
        rpy="0 0 0" />
      <geometry>
        <mesh
          filename="../meshes/right_thumb_link_1.STL" />
      </geometry>
    </collision>
  </link>
  <joint
    name="right_thumb_joint_1"
    type="revolute">
    <origin
      xyz="0 0 0"
      rpy="-1.5708 0 -1.584" />
    <parent
      link="right_thumb_link_0" />
    <child
      link="right_thumb_link_1" />
    <axis
      xyz="0 0 1" />
    <limit
      lower="0"
      upper="1.57"
      effort="0"
      velocity="0" />
  </joint>
  <link
    name="right_thumb_link_2">
    <inertial>
      <origin
        xyz="0.0341353446373334 -0.0134306744709648 -0.00606231293979242"
        rpy="0 0 0" />
      <mass
        value="0.0156698845412996" />
      <inertia
        ixx="3.26113891553296E-06"
        ixy="-1.57642318512308E-07"
        ixz="-3.45162779988073E-08"
        iyy="7.95672764673869E-06"
        iyz="-2.45767947064481E-10"
        izz="7.62858587051256E-06" />
    </inertial>
    <visual>
      <origin
        xyz="0 0 0"
        rpy="0 0 0" />
      <geometry>
        <mesh
          filename="../meshes/right_thumb_link_2.STL" />
      </geometry>
      <material
        name="">
        <color
          rgba="0.752941176470588 0.752941176470588 0.752941176470588 1" />
      </material>
    </visual>
    <collision>
      <origin
        xyz="0 0 0"
        rpy="0 0 0" />
      <geometry>
        <mesh
          filename="../meshes/right_thumb_link_2.STL" />
      </geometry>
    </collision>
  </link>
  <joint
    name="right_thumb_joint_2"
    type="revolute">
    <origin
      xyz="0.038999 0.015063 -0.0215"
      rpy="-1.5708 -0.013237 0" />
    <parent
      link="right_thumb_link_1" />
    <child
      link="right_thumb_link_2" />
    <axis
      xyz="0 0 1" />
    <limit
      lower="0"
      upper="1.57"
      effort="0"
      velocity="0" />
  </joint>
  <link
    name="right_thumb_link_3">
    <inertial>
      <origin
        xyz="0.0125262527100985 -0.0142486702399882 -0.0061512495912662"
        rpy="0 0 0" />
      <mass
        value="0.00791689009201751" />
      <inertia
        ixx="5.28340747948026E-07"
        ixy="1.45549742623654E-07"
        ixz="-1.01000399824491E-08"
        iyy="1.02732921038006E-06"
        iyz="2.03941537500566E-09"
        izz="7.84802032770073E-07" />
    </inertial>
    <visual>
      <origin
        xyz="0 0 0"
        rpy="0 0 0" />
      <geometry>
        <mesh
          filename="../meshes/right_thumb_link_3.STL" />
      </geometry>
      <material
        name="">
        <color
          rgba="0.752941176470588 0.752941176470588 0.752941176470588 1" />
      </material>
    </visual>
    <collision>
      <origin
        xyz="0 0 0"
        rpy="0 0 0" />
      <geometry>
        <mesh
          filename="../meshes/right_thumb_link_3.STL" />
      </geometry>
    </collision>
  </link>
  <joint
    name="right_thumb_joint_3"
    type="revolute">
    <origin
      xyz="0.065494 0.00086701 0"
      rpy="0 0 0" />
    <parent
      link="right_thumb_link_2" />
    <child
      link="right_thumb_link_3" />
    <axis
      xyz="0 0 1" />
    <limit
      lower="0"
      upper="1.57"
      effort="0"
      velocity="0" />
  </joint>
  <link
    name="right_thumb_tactile_link_1">
    <inertial>
      <origin
        xyz="9.12223445115323E-08 0.0126852683813997 0.00466171978927943"
        rpy="0 0 0" />
      <mass
        value="0.00642512641938372" />
      <inertia
        ixx="5.39881056521151E-07"
        ixy="1.23064821086857E-11"
        ixz="-5.89597229931505E-13"
        iyy="4.31069779491668E-07"
        iyz="6.04503382133294E-08"
        izz="8.25872091366328E-07" />
    </inertial>
    <visual>
      <origin
        xyz="0 0 0"
        rpy="0 0 0" />
      <geometry>
        <mesh
          filename="../meshes/right_thumb_tactile_link_1.STL" />
      </geometry>
      <material
        name="">
        <color
          rgba="1 1 1 1" />
      </material>
    </visual>
    <collision>
      <origin
        xyz="0 0 0"
        rpy="0 0 0" />
      <geometry>
        <mesh
          filename="../meshes/right_thumb_tactile_link_1.STL" />
      </geometry>
    </collision>
  </link>
  <joint
    name="right_thumb_tactile_joint_1"
    type="fixed">
    <origin
      xyz="0.0044234 -0.0069828 -0.0060631"
      rpy="1.4007 -1.5708 3.1413" />
    <parent
      link="right_thumb_link_3" />
    <child
      link="right_thumb_tactile_link_1" />
    <axis
      xyz="0 0 0" />
  </joint>
  <link
    name="right_thumb_tactile_link_0">
    <inertial>
      <origin
        xyz="2.23202113958099E-07 0.0263867213413109 0.00156454201528233"
        rpy="0 0 0" />
      <mass
        value="0.00353856733894455" />
      <inertia
        ixx="7.21430656389004E-07"
        ixy="-2.45885665581846E-11"
        ixz="6.50187125637457E-13"
        iyy="1.45872919694292E-07"
        iyz="-8.67228040825083E-10"
        izz="8.60683279406688E-07" />
    </inertial>
    <visual>
      <origin
        xyz="0 0 0"
        rpy="0 0 0" />
      <geometry>
        <mesh
          filename="../meshes/right_thumb_tactile_link_0.STL" />
      </geometry>
      <material
        name="">
        <color
          rgba="1 1 1 1" />
      </material>
    </visual>
    <collision>
      <origin
        xyz="0 0 0"
        rpy="0 0 0" />
      <geometry>
        <mesh
          filename="../meshes/right_thumb_tactile_link_0.STL" />
      </geometry>
    </collision>
  </link>
  <joint
    name="right_thumb_tactile_joint_0"
    type="fixed">
    <origin
      xyz="0.0063893 0.004585 -0.0060631"
      rpy="1.584 -1.5708 3.1413" />
    <parent
      link="right_thumb_link_2" />
    <child
      link="right_thumb_tactile_link_0" />
    <axis
      xyz="0 0 0" />
  </joint>
</robot>
